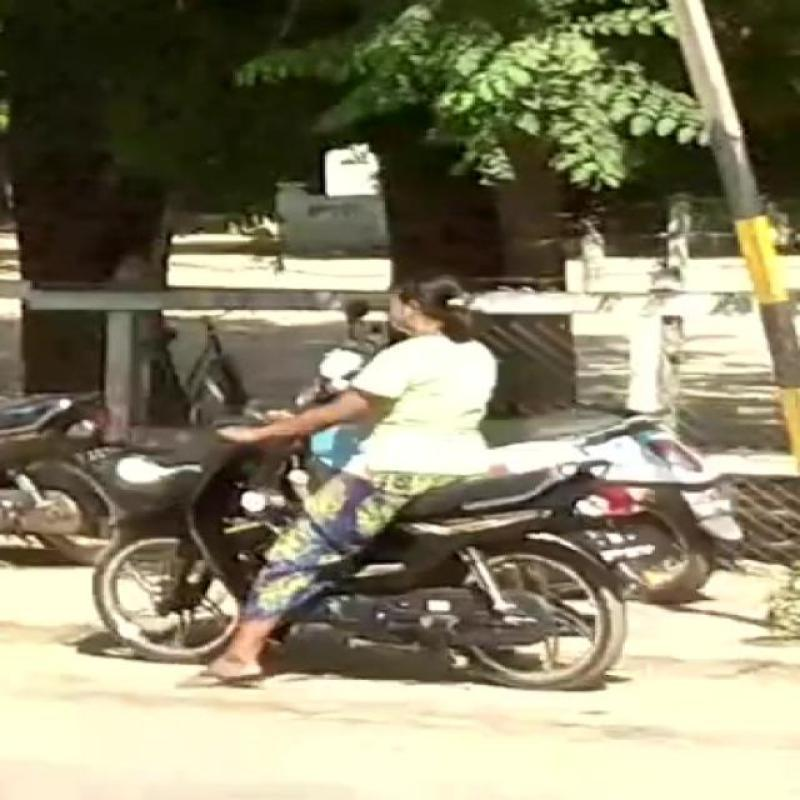nohelmet: (347, 259, 504, 352)
